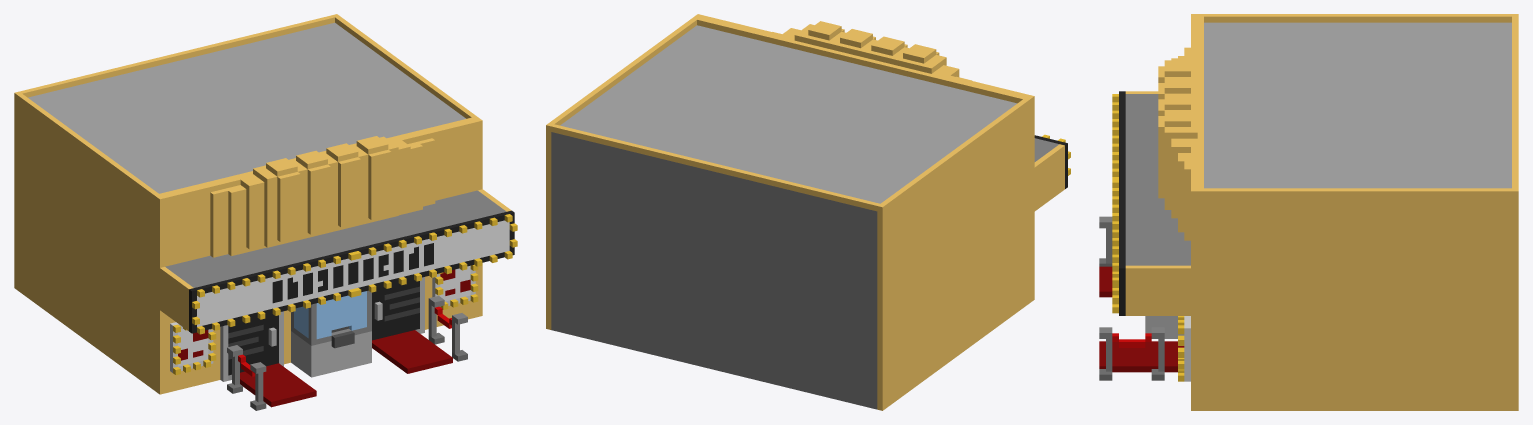
The model's file is obj_store15.obj.
3 views of the same model, side by side, from view 1: azimuth 30°, elevation 25°; view 2: azimuth 150°, elevation 25°; view 3: azimuth 270°, elevation 25° (orthographic). The views are drawn at different scales.
Bounding box in the file's own units: 6.4 × 3.9 × 6.4.
1 material, 1 textured.
